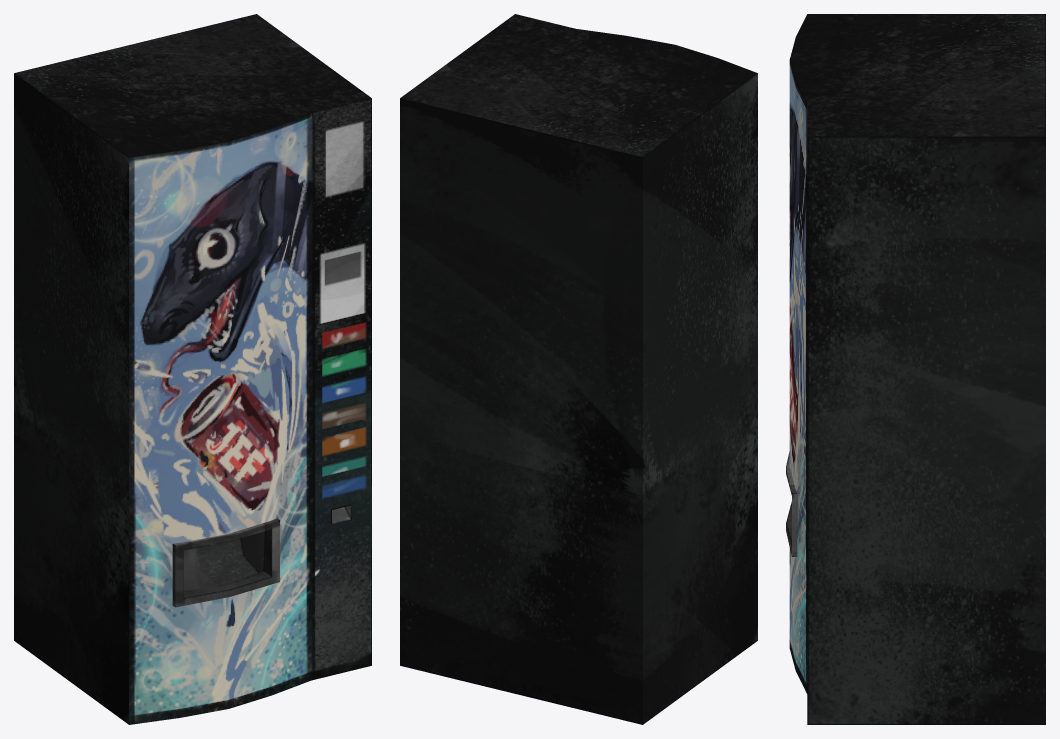
Rendered from VendingMachine_Asset.fbx.
3 views of the same model, side by side, from view 1: azimuth 30°, elevation 25°; view 2: azimuth 150°, elevation 25°; view 3: azimuth 270°, elevation 25° (orthographic). The views are drawn at different scales.
Visible parts, largest first — view 1: VendingMachine; view 2: VendingMachine; view 3: VendingMachine.
Boxes of the visible parts, x1,y1,x2,y2 form: VendingMachine: (14,14,371,724); VendingMachine: (400,14,757,724); VendingMachine: (786,14,1045,724).
Bounding box in the file's own units: 81.51 × 72.91 × 182.
